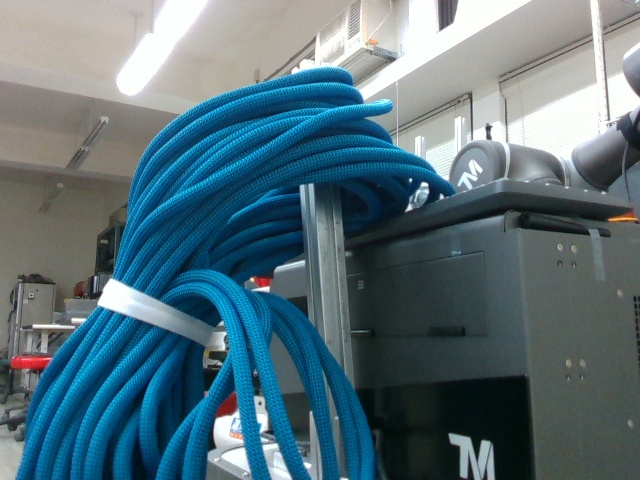rope: (27, 65, 392, 480)
